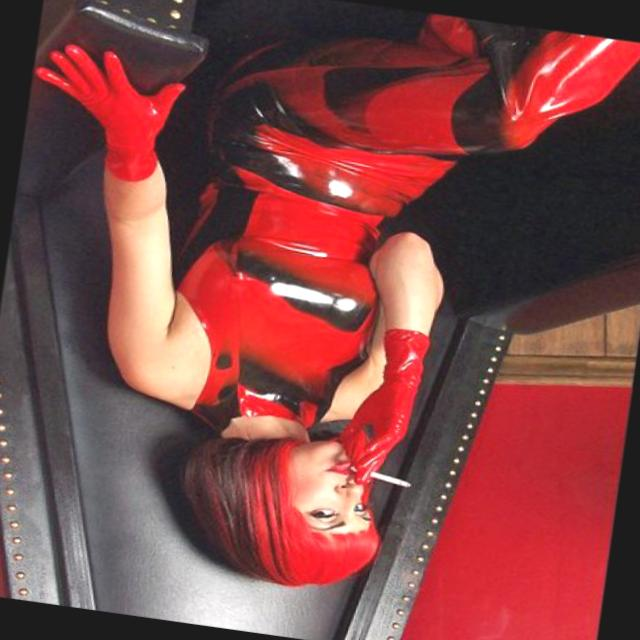cigarette: (352, 450, 431, 493)
